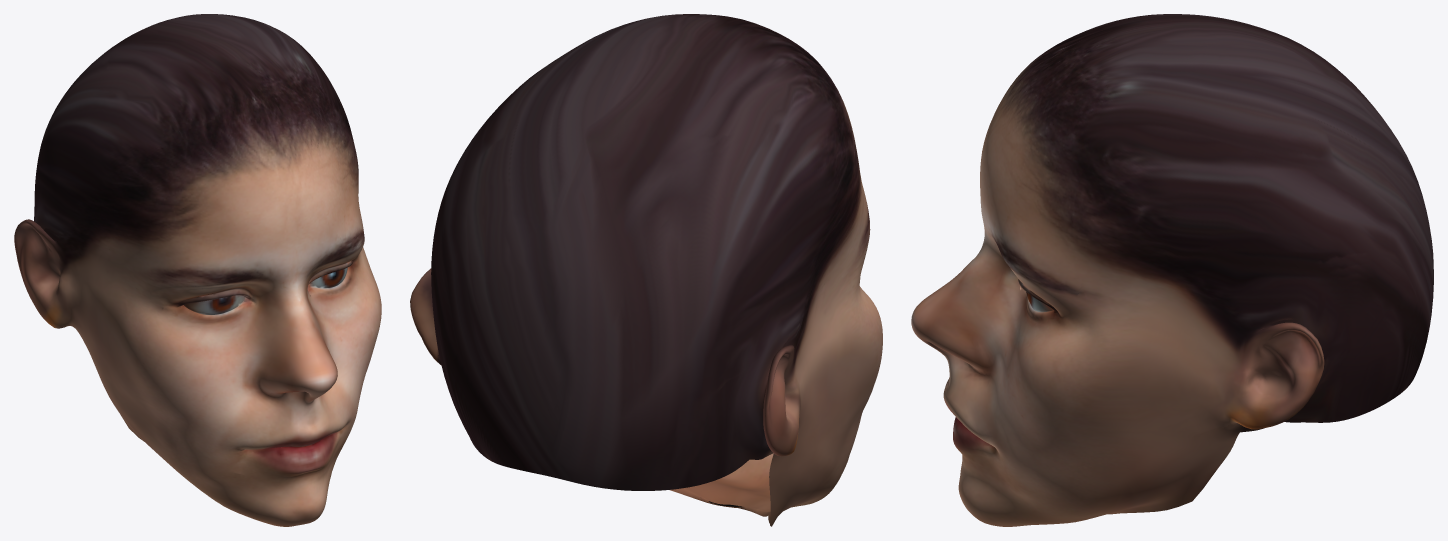
The model's file is faces12-small.glb.
3 renders of one model, left to right at view 1: azimuth 30°, elevation 25°; view 2: azimuth 150°, elevation 25°; view 3: azimuth 270°, elevation 25°, orthographic. The views are drawn at different scales.
Parts seen in each view (by area): view 1: FBHead; view 2: FBHead; view 3: FBHead.
Boxes of the visible parts, x1=… form: FBHead: x1=14, y1=14, x2=381, y2=526; FBHead: x1=410, y1=14, x2=882, y2=526; FBHead: x1=911, y1=14, x2=1433, y2=526.
Bounding box in the file's own units: 1.17 × 1.62 × 1.56.
1 material, 1 textured.
